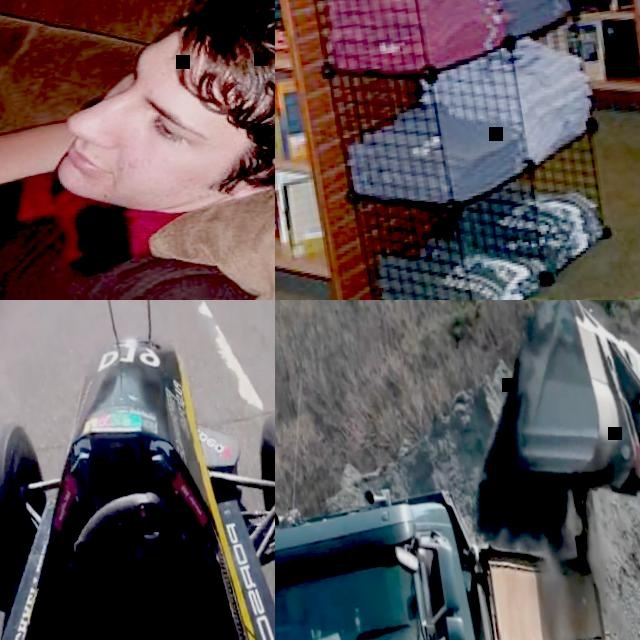NO-Hardhat: (160, 0, 275, 187), (280, 586, 300, 605)
NO-Mask: (41, 91, 169, 221)
NO-Safety Vest: (0, 159, 132, 287)
Person: (0, 0, 275, 296), (278, 583, 312, 633)
machinery: (275, 449, 619, 640), (476, 300, 640, 640)
vehicle: (0, 307, 275, 640)
